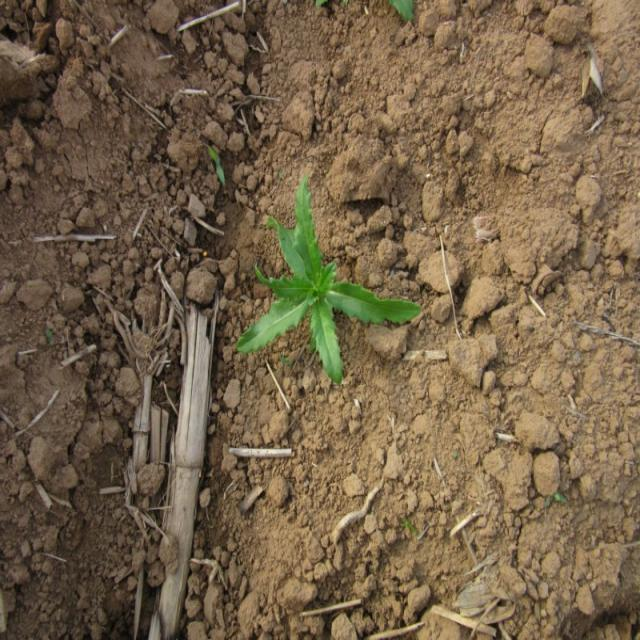cs: (230, 175, 423, 385)
